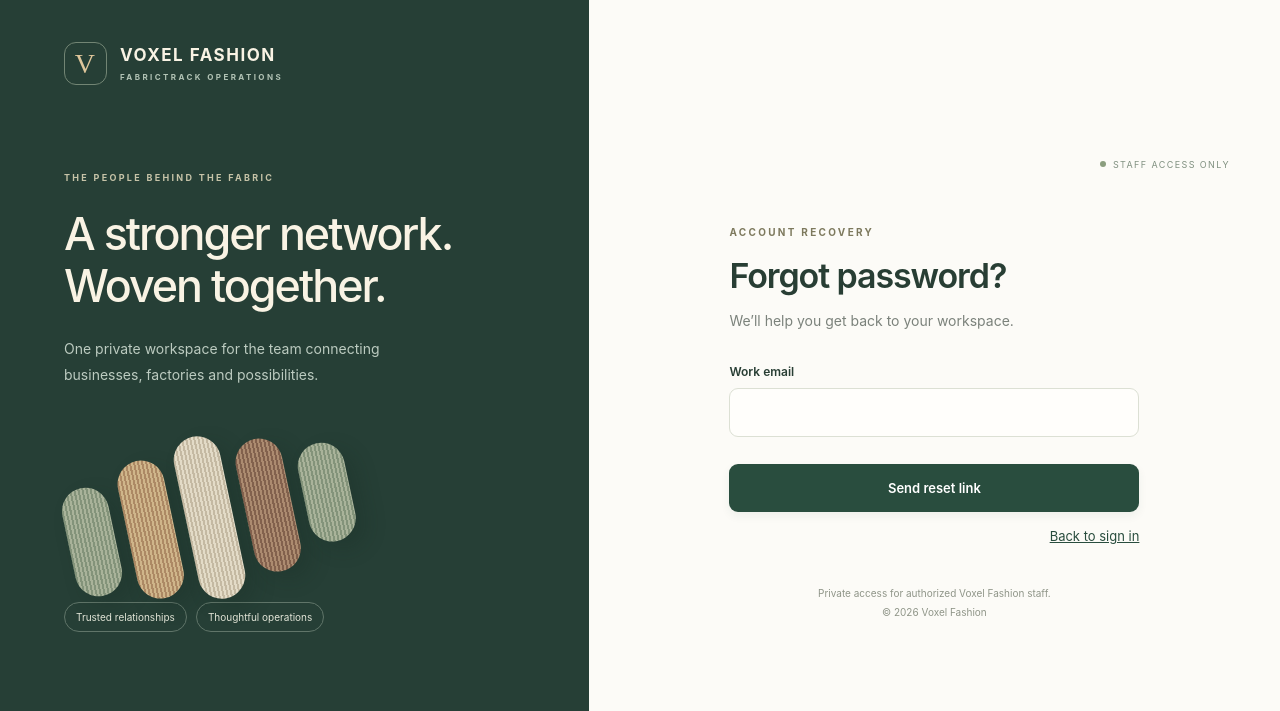
it: shows a neutral response after requesting recovery
Type "owner@example.test" into the field labelled "Work email" at (934, 413), box [729,388,1139,437]
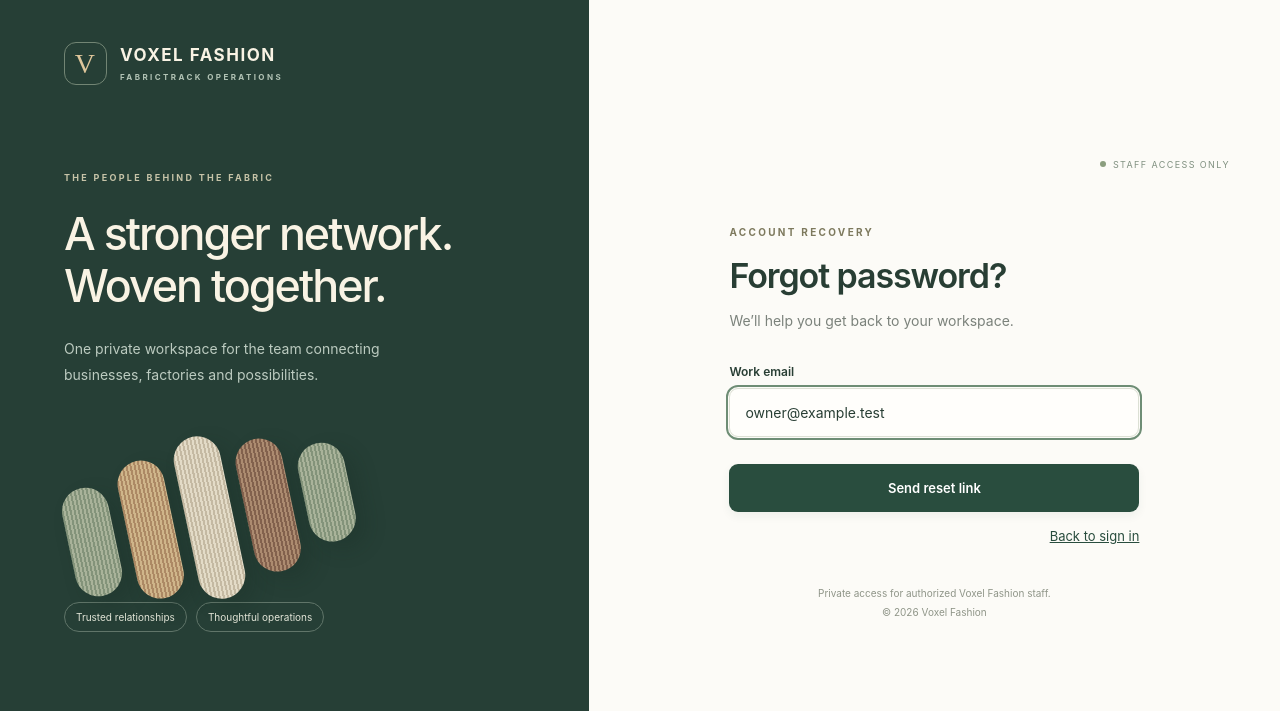
Click the button "Send reset link" at (934, 488), box [729,464,1139,512]
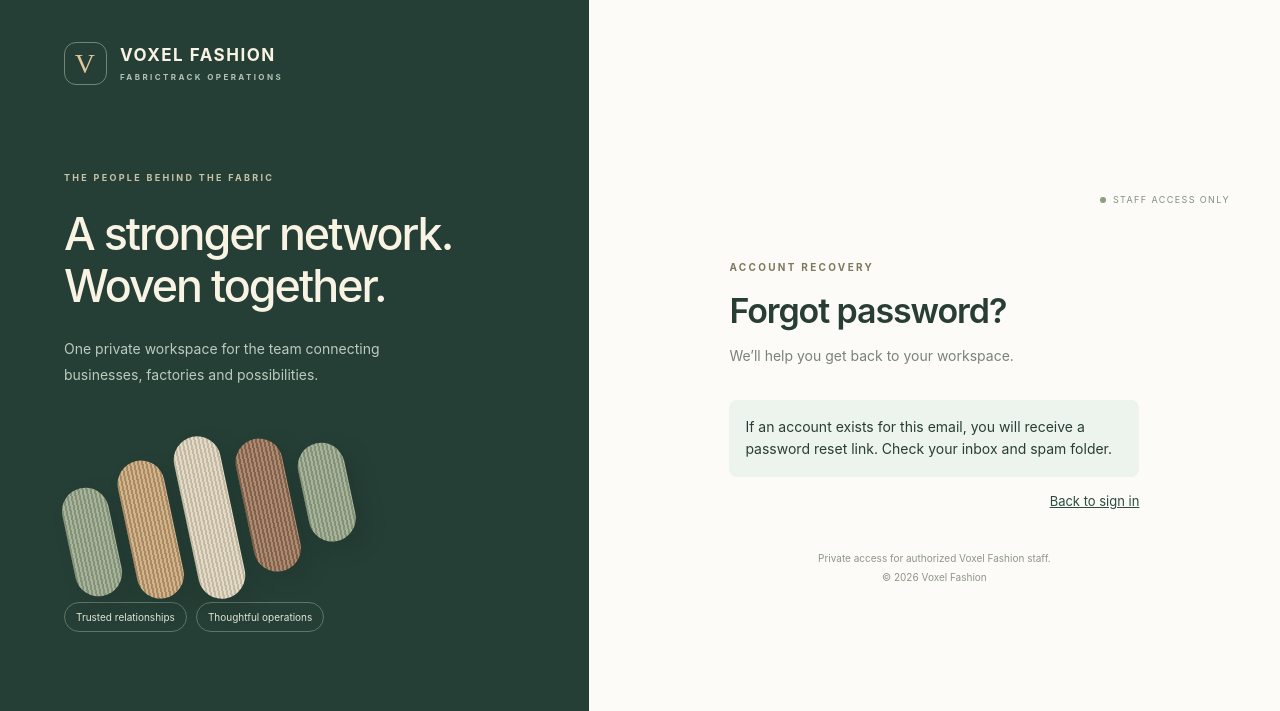
Check: the message shows "If an account exists", box [745,418,1112,457]
